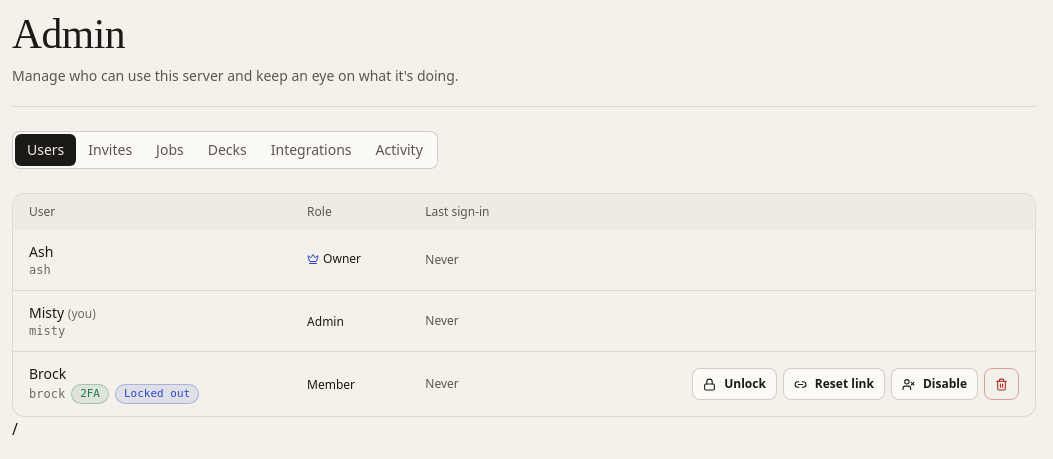
Test: Jobs › keeps the update check for the owner
Click the radio button labelled "Jobs": [170, 150] box x1=144 y1=134 x2=196 y2=166
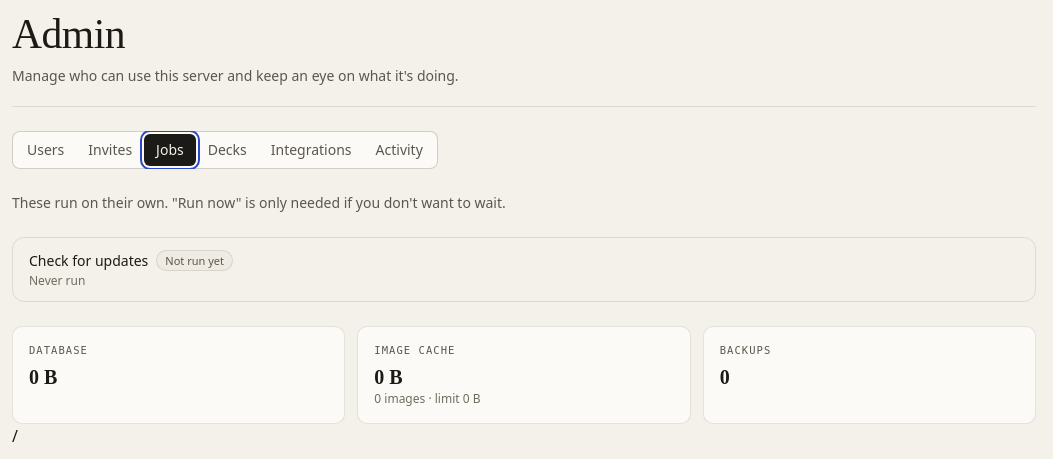
Now the text "Check for updates" is shown, box x1=29 y1=251 x2=148 y2=270
